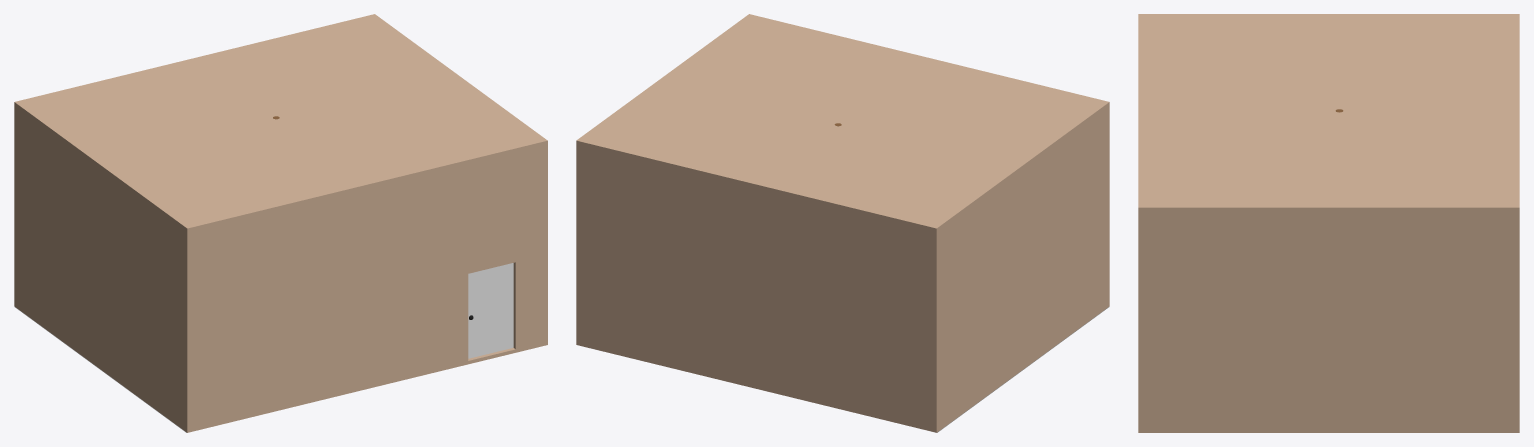
File: Bedroom Sopansa Blanket fix.fbx
3 views of the same model, side by side, from view 1: azimuth 30°, elevation 25°; view 2: azimuth 150°, elevation 25°; view 3: azimuth 270°, elevation 25° (orthographic). The views are drawn at different scales.
Parts seen in each view (by area): view 1: Cube.010; view 2: Cube.010; view 3: Cube.010.
Boxes of the visible parts, x1,y1,x2,y2 form: Cube.010: (14,14,547,432); Cube.010: (576,14,1109,432); Cube.010: (1138,14,1519,432).
Bounding box in the file's own units: 2905 × 1598 × 2412.
36 materials, 36 textured.
